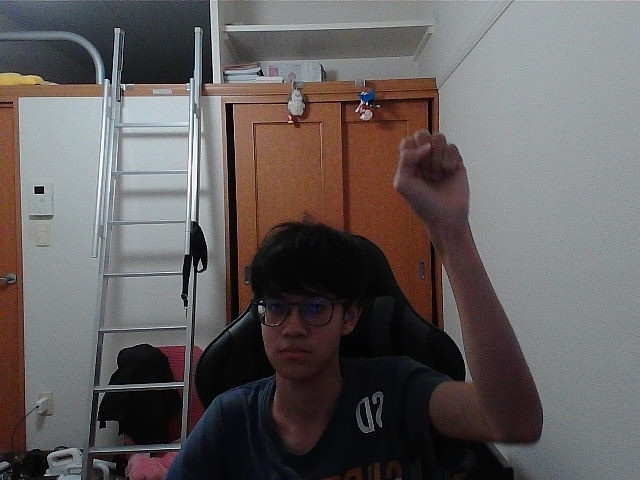closed_palm: (404, 135, 455, 212)
